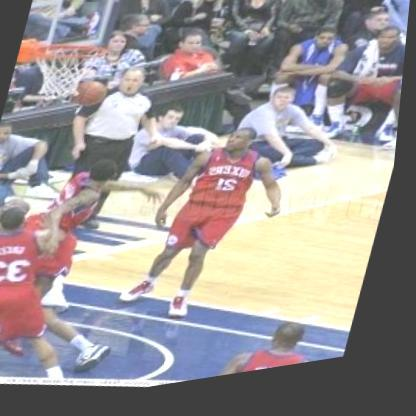basketball: (68, 74, 112, 118)
